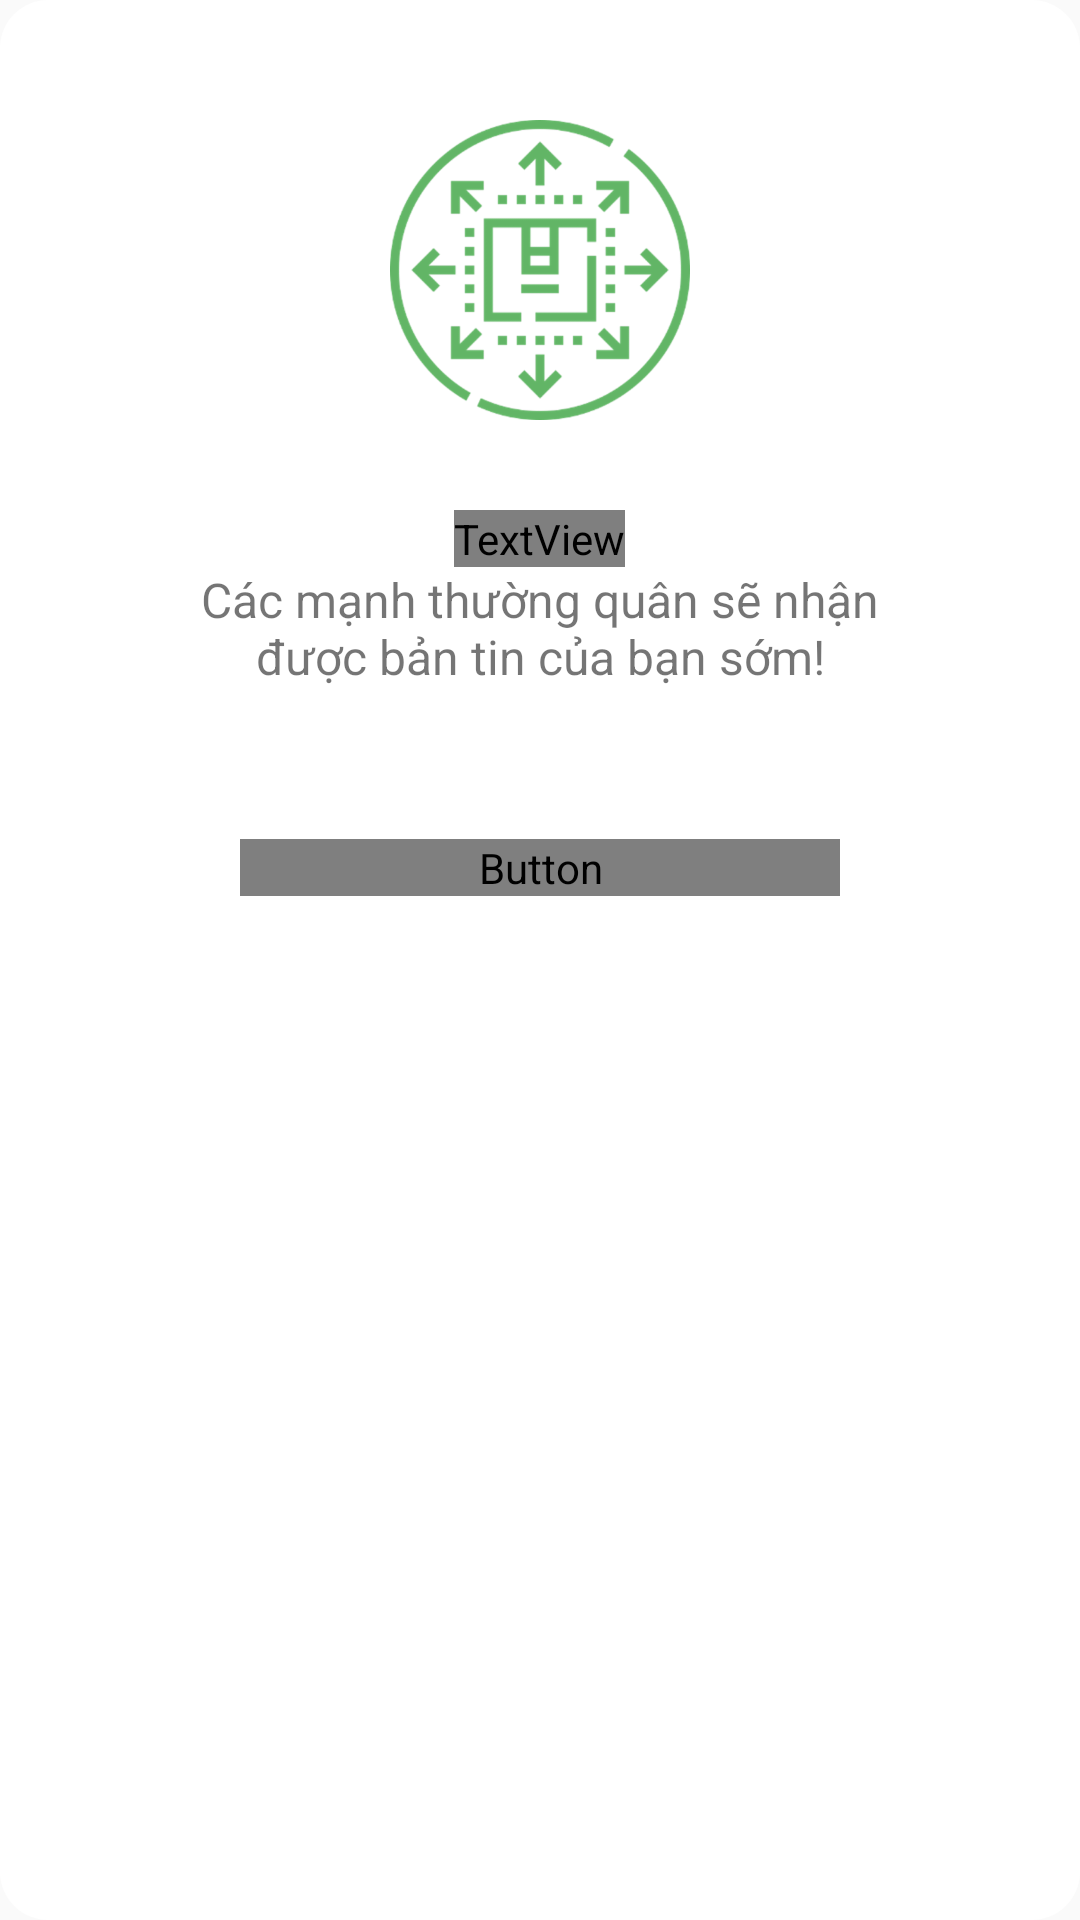

Icons on this 1080*1920 Android screen, each with the point to tap as [x,y]:
logistics: [540,270]
